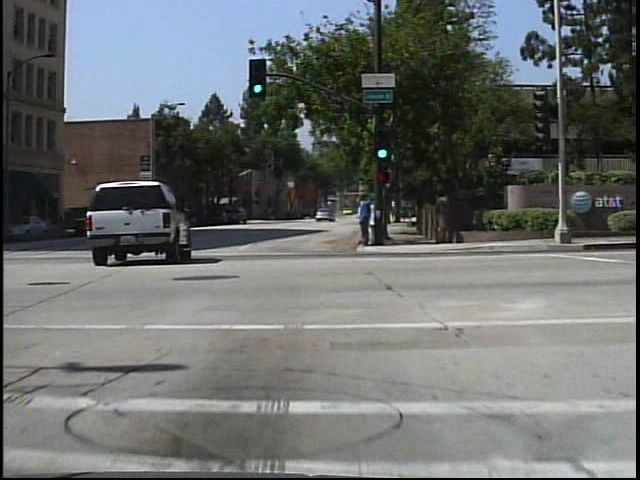person: (353, 194, 373, 249), (361, 196, 379, 248)
